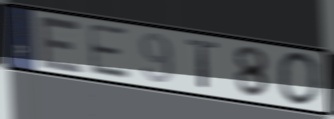8: (232, 44, 272, 100)
9: (138, 31, 176, 86)
E: (36, 13, 87, 76), (85, 21, 133, 82)
O: (275, 50, 323, 108)
T: (185, 36, 222, 92)
